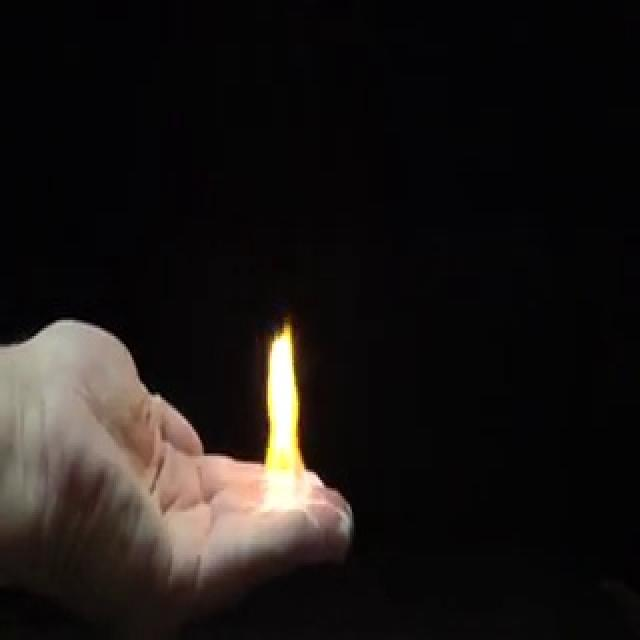fire: (253, 317, 314, 515)
